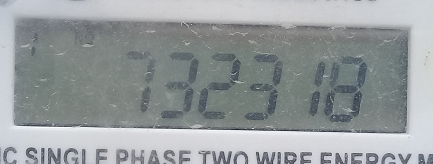digit: (323, 47, 369, 125), (157, 41, 199, 120), (286, 52, 328, 131), (242, 47, 284, 126), (198, 44, 240, 123), (117, 41, 155, 115)
